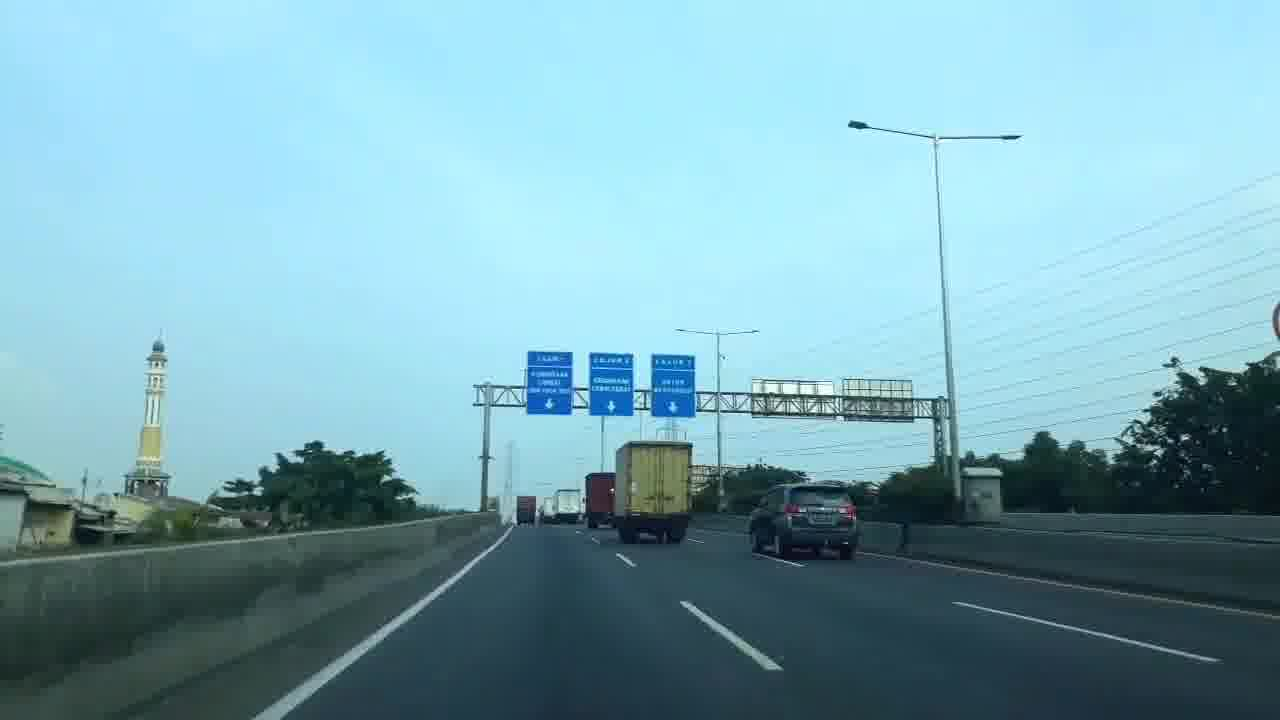plate_positive: (814, 513, 834, 522)
